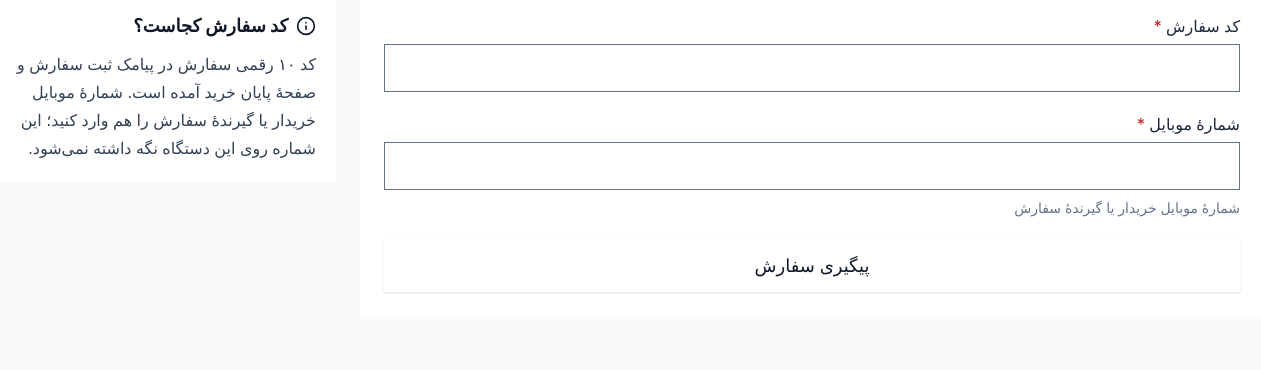
Test: checked before anything is sent › an edited field drops its message
Click the button "پیگیری سفارش": [812, 266] box left=384, top=240, right=1240, bottom=292
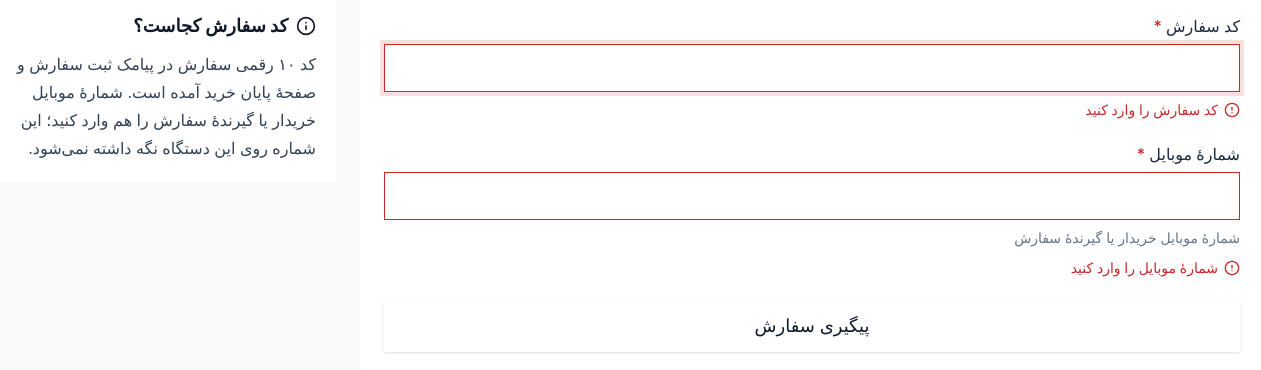
In the field labelled "کد سفارش *": [812, 68] box left=385, top=45, right=1239, bottom=91, type "1"
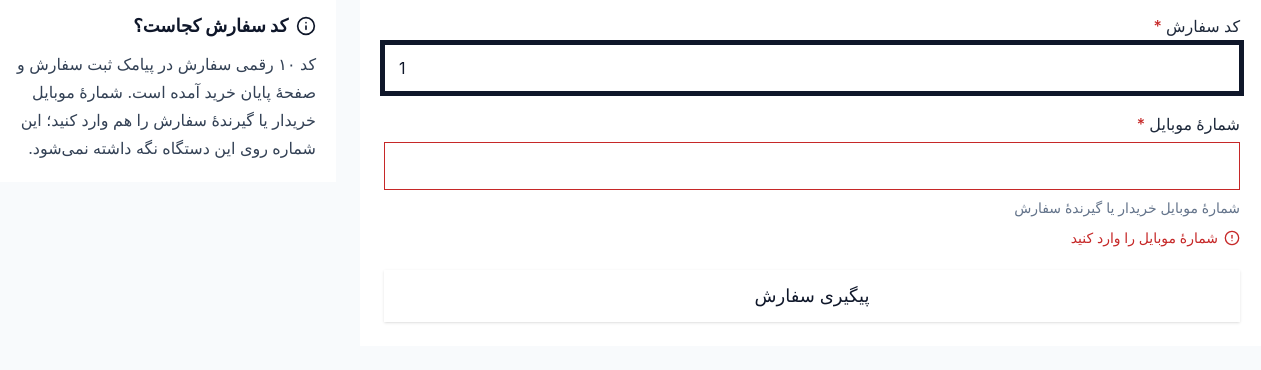
Expected: the field labelled "کد سفارش *" does not have attribute aria-invalid, left=385, top=45, right=1239, bottom=91
Expected: the field labelled "شمارهٔ موبایل *" is marked as invalid, left=385, top=143, right=1239, bottom=189
